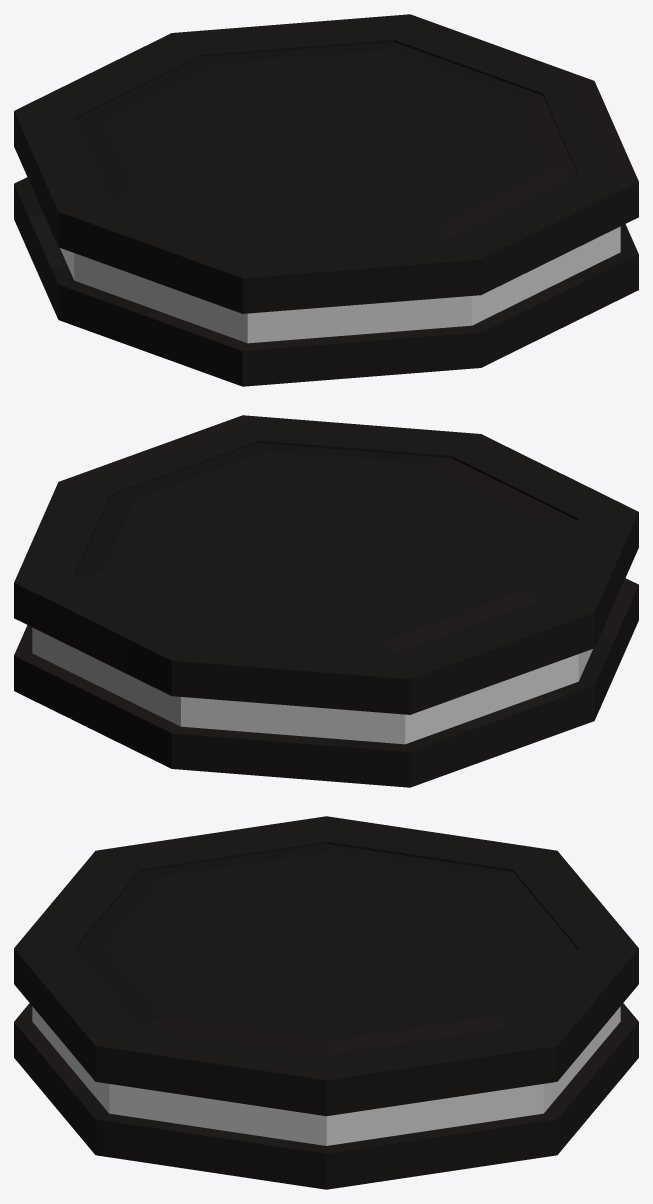
File: cookie.glb
The picture shows the model from 3 angles, top to bottom: view 1: azimuth 30°, elevation 25°; view 2: azimuth 150°, elevation 25°; view 3: azimuth 270°, elevation 25°; orthographic projection.
Parts seen in each view (by area): view 1: node-0; view 2: node-0; view 3: node-0.
Part boxes in pixels (bbox=[...]): node-0: bbox=[14, 14, 638, 386]; node-0: bbox=[14, 415, 638, 787]; node-0: bbox=[14, 816, 638, 1189].
Bounding box in the file's own units: 0.2991 × 0.0596 × 0.2991.
Materials: 1 (1 with a texture image).
